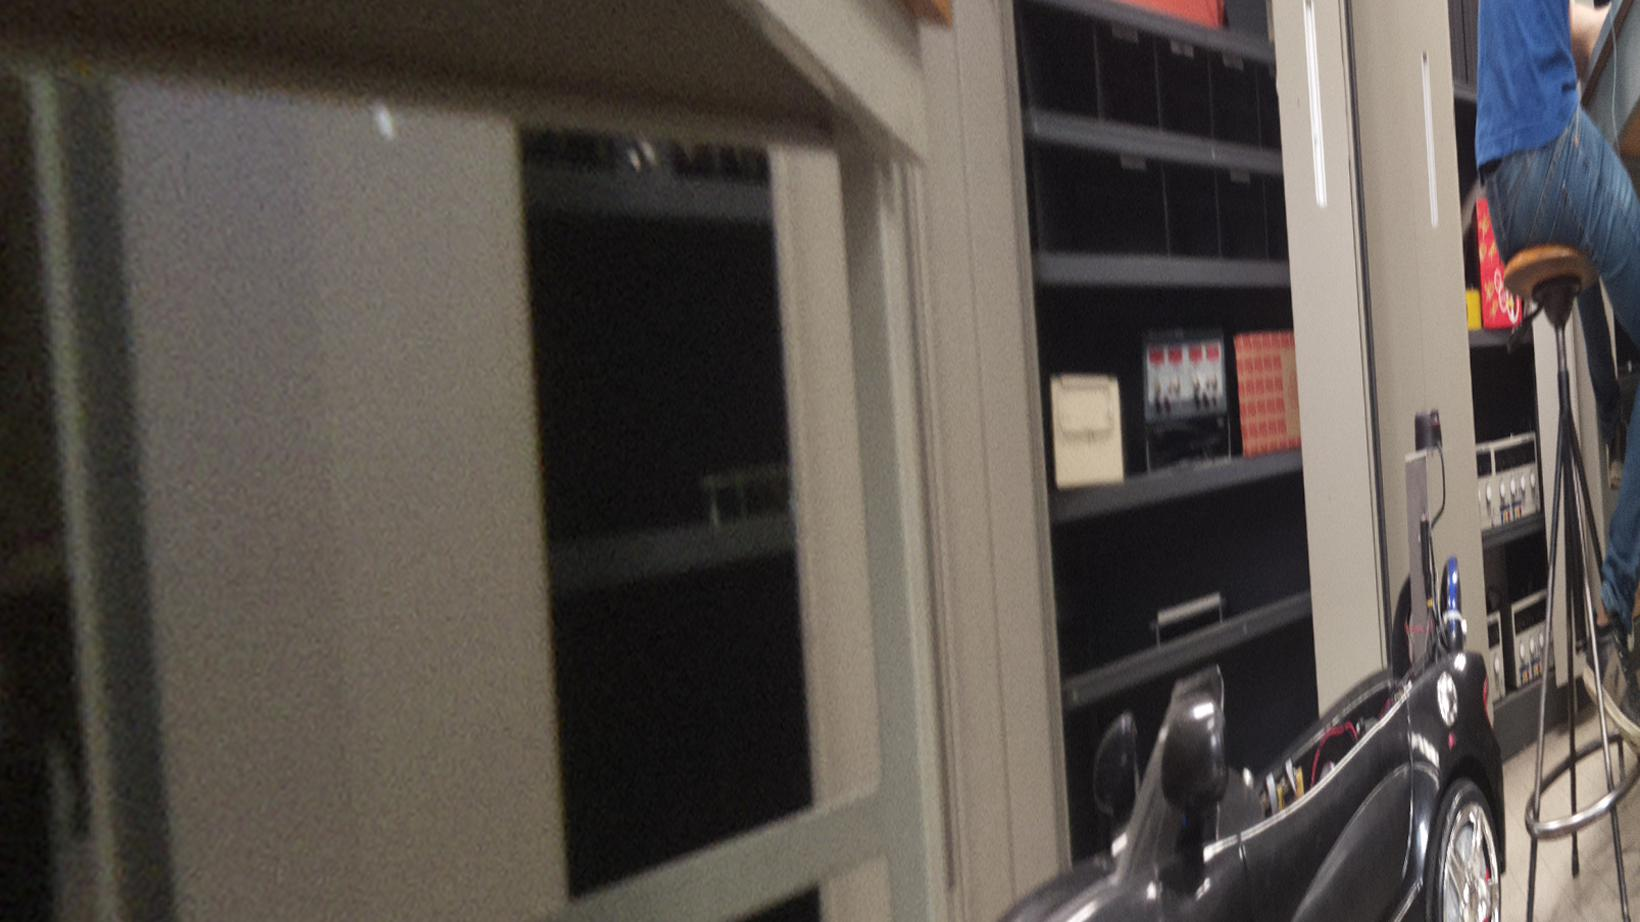big: (993, 401, 1507, 922)
